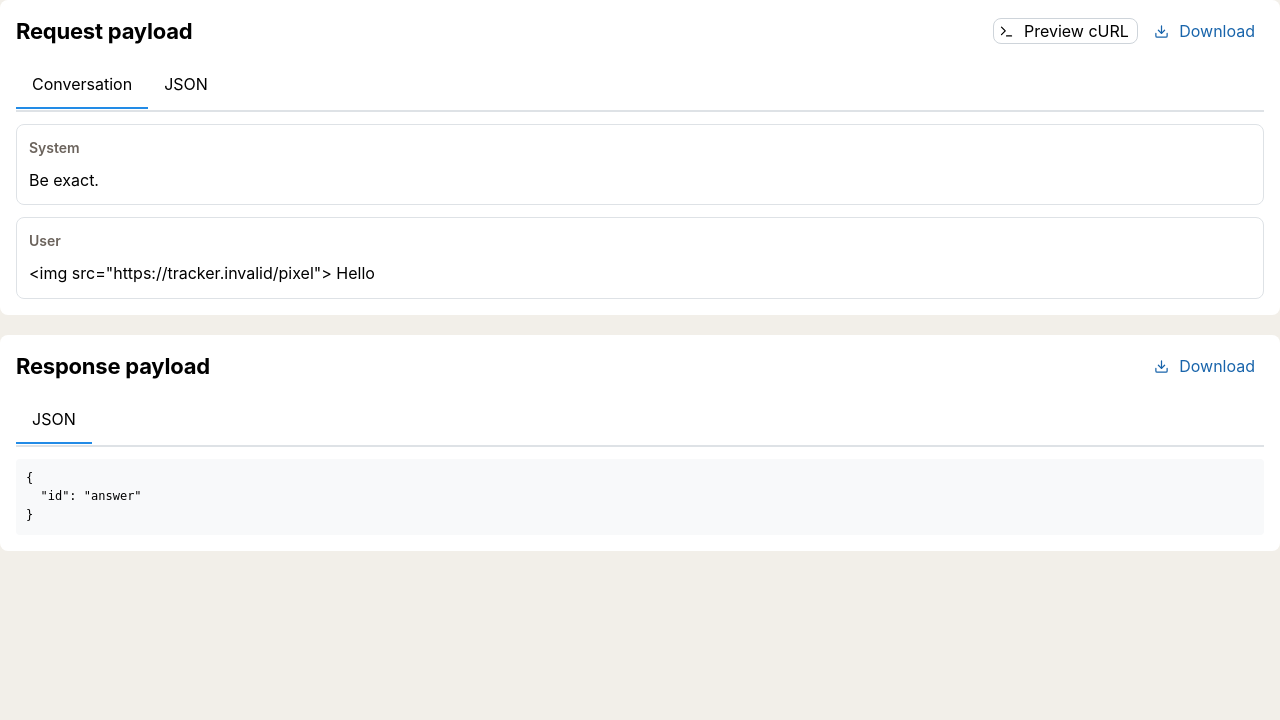
Test case: the stored payload viewer › defaults a message-shaped body to a safe conversation and keeps its JSON view
Expected: the list named "Request conversation" shows "Be exact.", [29,170,99,190]
Expected: the text "<img src=\"https://tracker.invalid/pixel\"> Hello" is shown, [29,263,375,283]
Click the tab "JSON" below "Request payload". click: (186, 85)
box: [148,62,224,109]
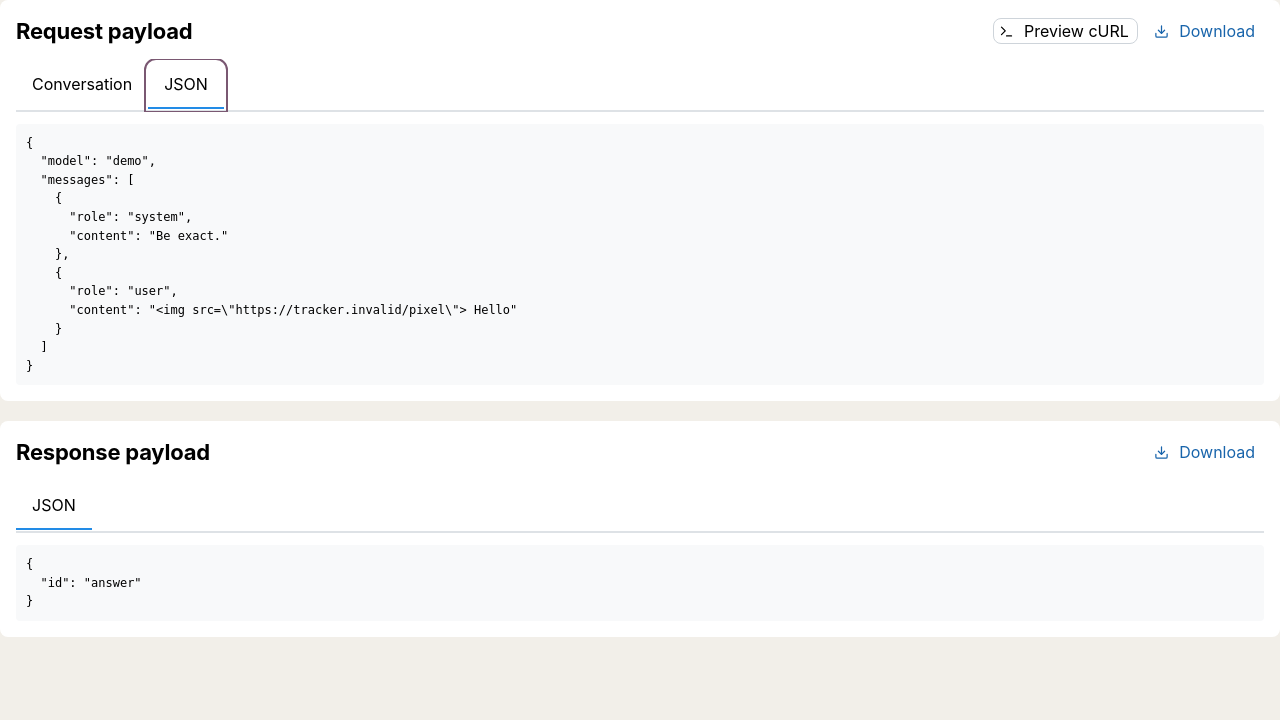
Expected: the text "\"messages\"" is shown, [26,136,517,373]
